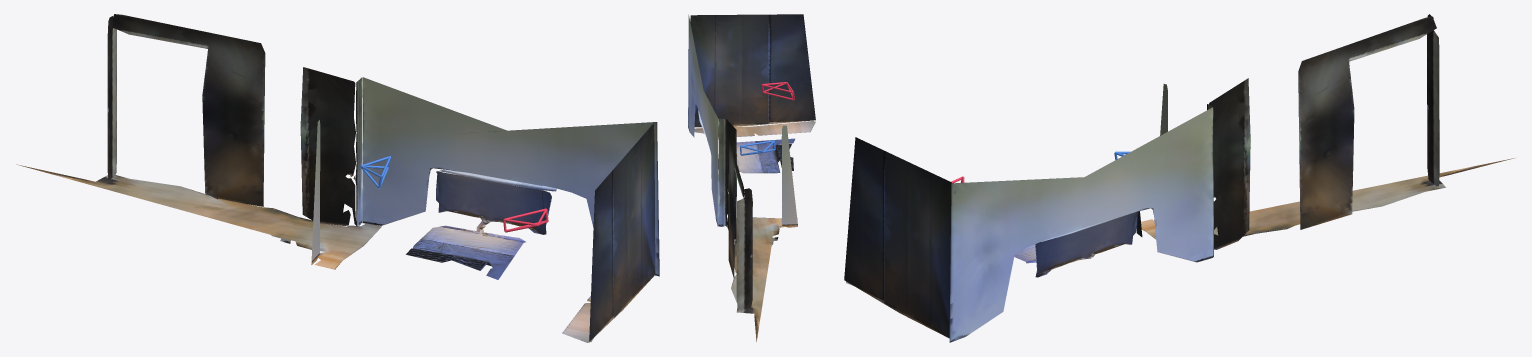
The picture shows the model from 3 angles, left to right: view 1: azimuth 30°, elevation 25°; view 2: azimuth 150°, elevation 25°; view 3: azimuth 270°, elevation 25°; orthographic projection. The views are drawn at different scales.
Parts seen in each view (by area): view 1: Node; view 2: Node; view 3: Node.
Part boxes in pixels (left/top/right/bottom): Node: left=16, top=14, right=659, bottom=342; Node: left=688, top=14, right=815, bottom=341; Node: left=844, top=14, right=1514, bottom=342.
Size of the model in its own units: 7.05 by 3.08 by 10.84.
Materials: 21 (19 with a texture image).
